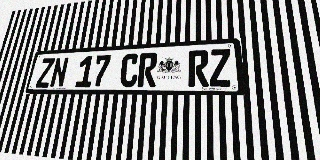1: (75, 56, 95, 87)
7: (91, 55, 111, 87)
C: (119, 53, 140, 87)
N: (49, 57, 69, 88)
R: (188, 50, 209, 87), (137, 52, 158, 87)
Z: (209, 48, 232, 87), (35, 58, 55, 88)
